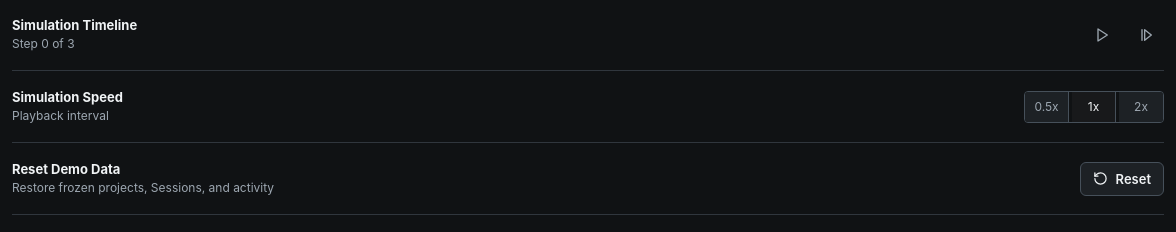
Test case: DemoControls › automatically advances playback using the frozen interval
Click the button named "Play demo".
click(1102, 34)  # box [1084,16,1120,52]
Wait 2400 ms
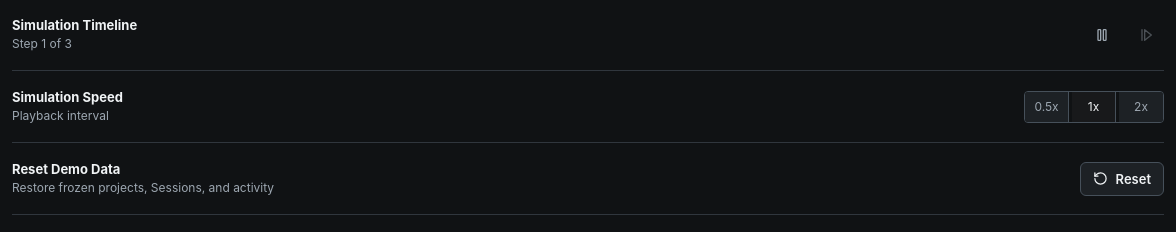
Check: the button named "Pause demo" is shown, box [1084,16,1120,52]
Check: the text "Step 1 of 3" is shown, box [12,36,72,51]
